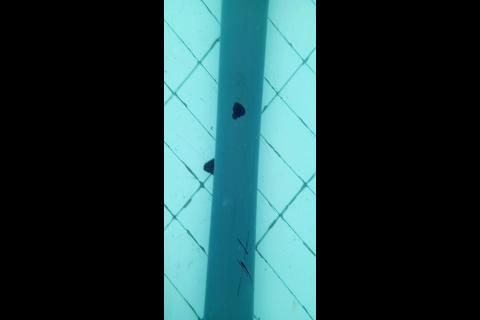kebocoran: (229, 101, 247, 121)
keretakan: (237, 232, 252, 298)
